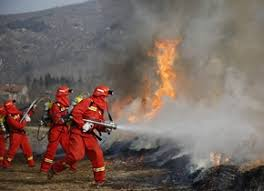fire: (139, 35, 185, 122)
